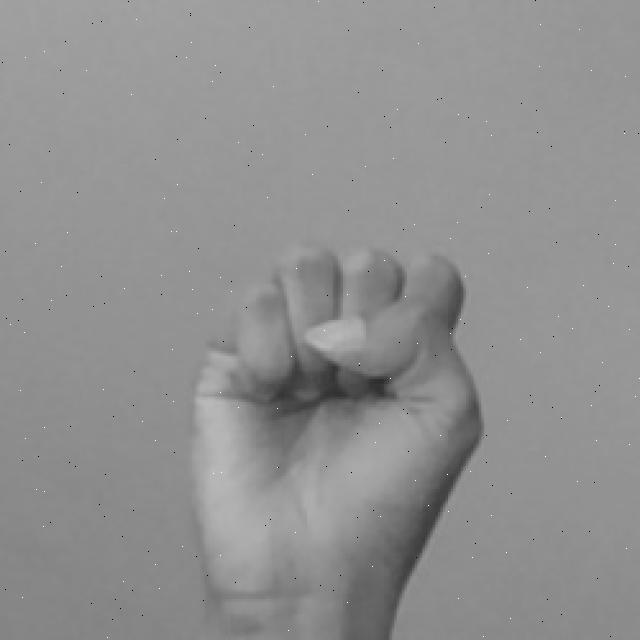S: (181, 235, 485, 640)
